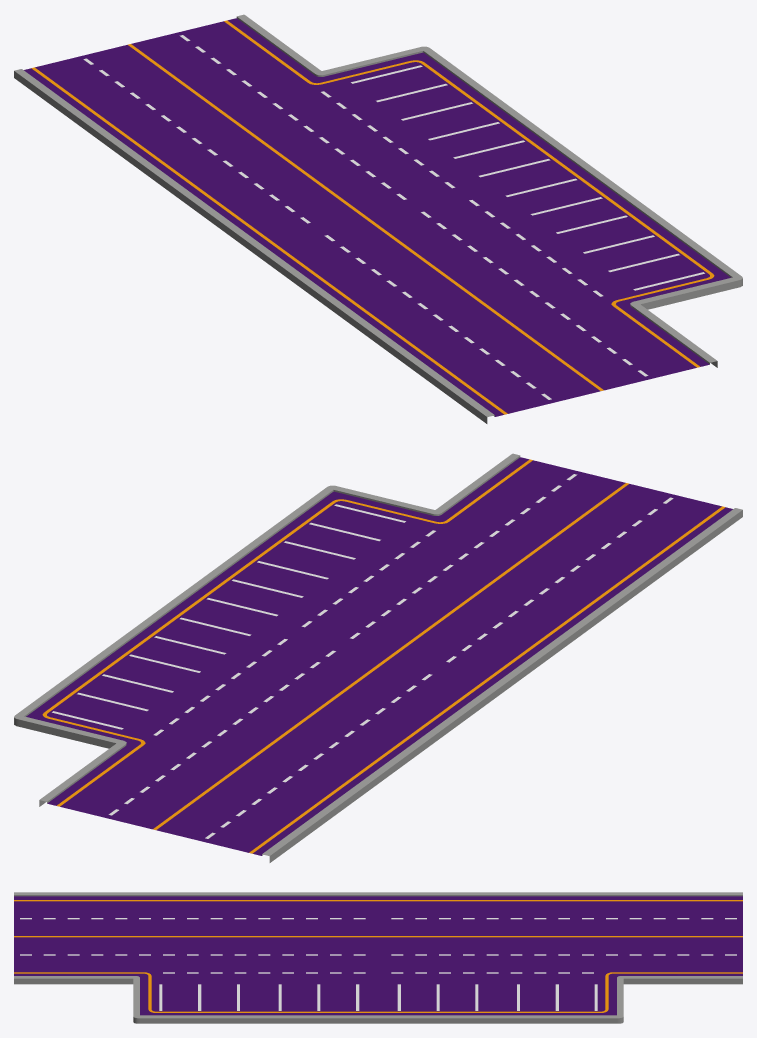
Rendered from ParkingRoad_C_6.fbx.
The picture shows the model from 3 angles, top to bottom: view 1: azimuth 30°, elevation 25°; view 2: azimuth 150°, elevation 25°; view 3: azimuth 270°, elevation 25°; orthographic projection. The views are drawn at different scales.
Visible parts, largest first — view 1: ParkingRoad_C_6; view 2: ParkingRoad_C_6; view 3: ParkingRoad_C_6.
Boxes of the visible parts, left/top/right/bottom form: ParkingRoad_C_6: left=14, top=14, right=742, bottom=423; ParkingRoad_C_6: left=14, top=453, right=742, bottom=862; ParkingRoad_C_6: left=14, top=892, right=742, bottom=1023.
Size of the model in its own units: 2000 by 41.48 by 4893.
